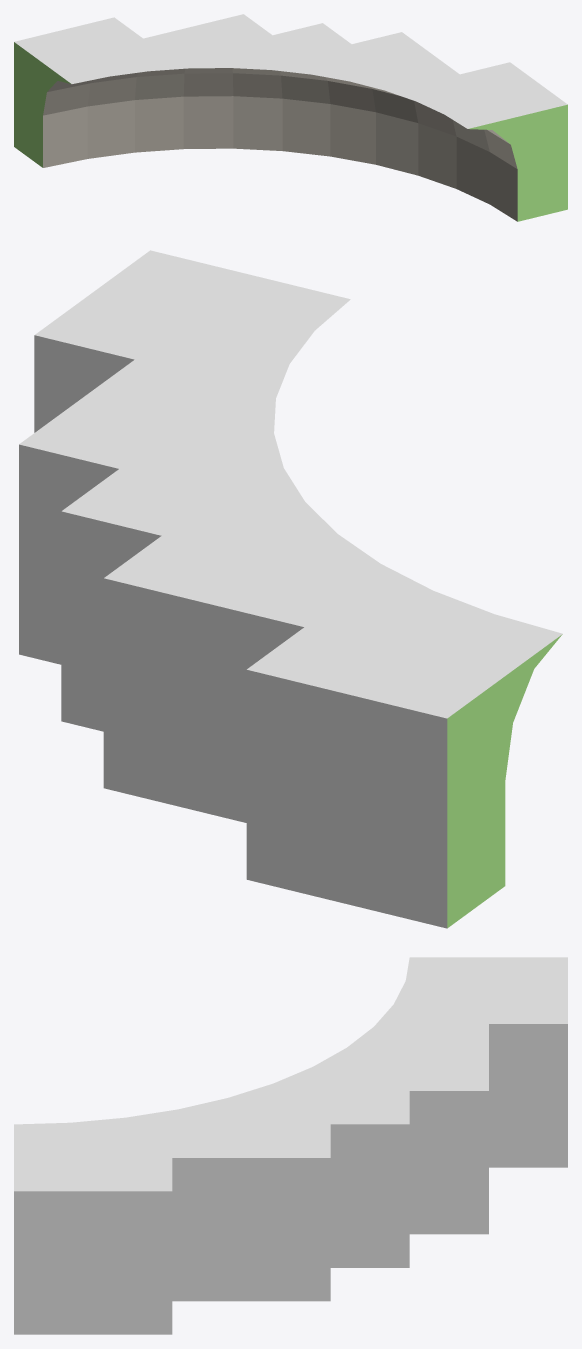
Rendered from Wall_Curve_Inner_7x7_Top.glb.
3 renders of one model, top to bottom at view 1: azimuth 30°, elevation 25°; view 2: azimuth 150°, elevation 25°; view 3: azimuth 270°, elevation 25°, orthographic. The views are drawn at different scales.
Visible parts, largest first — view 1: Wall_Curve_Inner_7x7_Top; view 2: Wall_Curve_Inner_7x7_Top; view 3: Wall_Curve_Inner_7x7_Top.
Boxes of the visible parts, x1,y1,x2,y2 form: Wall_Curve_Inner_7x7_Top: (14, 14, 567, 221); Wall_Curve_Inner_7x7_Top: (19, 250, 562, 928); Wall_Curve_Inner_7x7_Top: (14, 957, 567, 1334).
Size of the model in its own units: 700 by 200 by 700.
